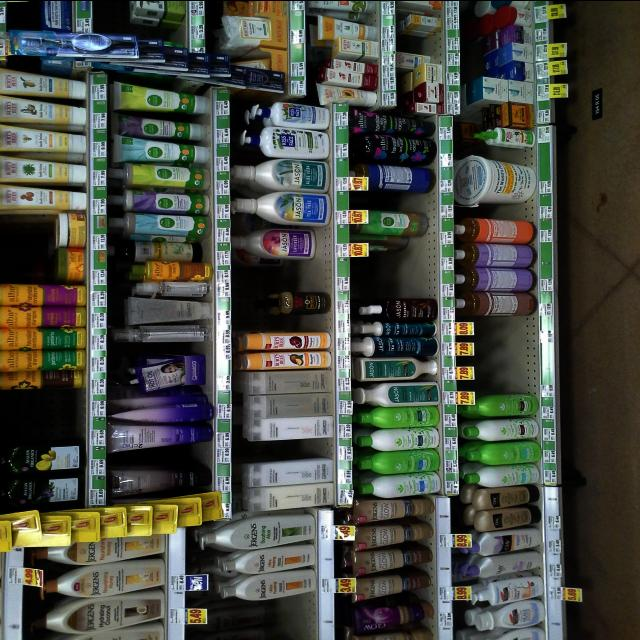empty_space: (479, 324, 535, 384), (11, 395, 74, 433), (371, 255, 425, 287), (263, 600, 314, 632), (251, 440, 329, 460), (247, 262, 322, 282), (252, 315, 320, 329)
